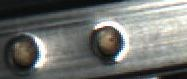joints: (2, 31, 46, 72), (88, 18, 128, 63)
